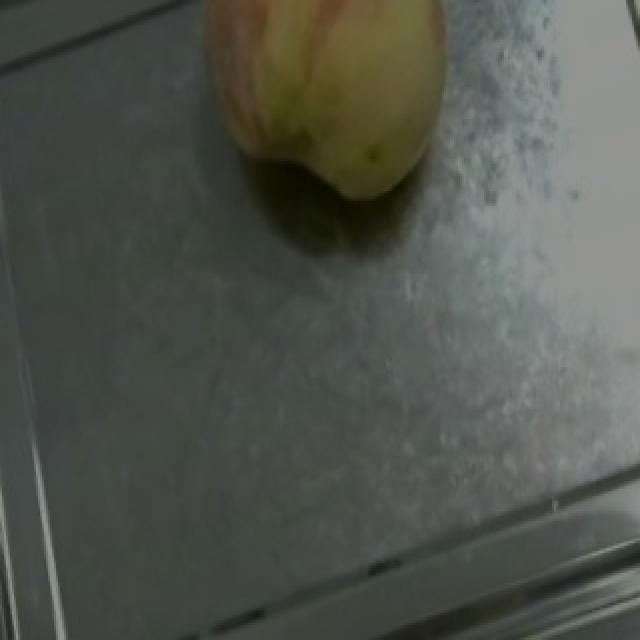Fruit: (164, 0, 494, 228)
